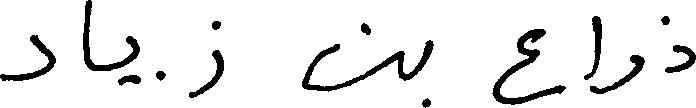X: (302, 18, 398, 96), (493, 24, 561, 107), (189, 16, 223, 102), (0, 30, 53, 85), (603, 50, 644, 98), (668, 12, 695, 77), (586, 11, 601, 98), (120, 31, 138, 90), (419, 35, 432, 107), (83, 0, 92, 75)
